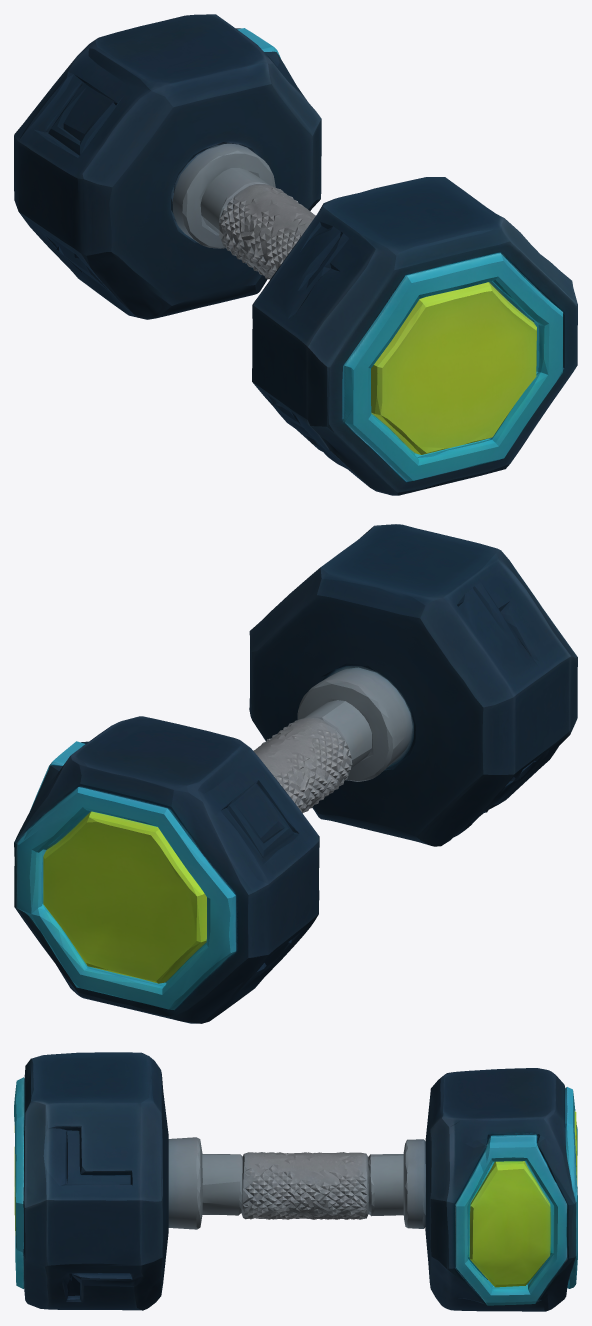
The model's file is gym-dumbbell-web.glb.
3 views of the same model, one above another, from view 1: azimuth 30°, elevation 25°; view 2: azimuth 150°, elevation 25°; view 3: azimuth 270°, elevation 25° (orthographic). The views are drawn at different scales.
Parts seen in each view (by area): view 1: model; view 2: model; view 3: model.
Part boxes in pixels (x1,y1,x2,y2): model: (14,14,577,495); model: (14,524,577,1023); model: (14,1052,577,1311).
Size of the model in its own units: 0.8679 by 0.7841 by 1.9.
Materials: 1 (1 with a texture image).
